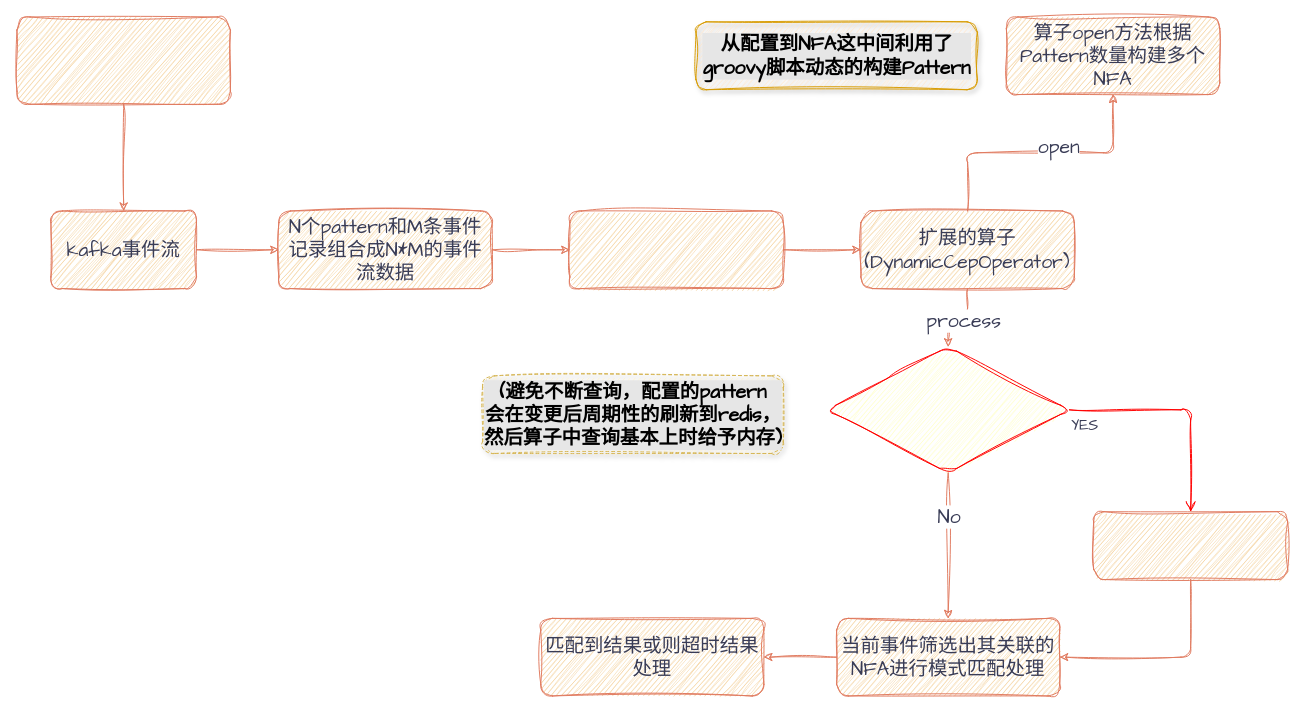
Some shapes in this 1305 by 713 pixel diagram are drawn without their labels. Here are the shapes that lost their labels. From the top down, the centre of each, then its label:
the point at 123,60: 后台配置的pattern数据(mysql中)周期性的广播到主事件流
the point at 676,249: keyBy(按照用户或者设备分组)
the point at 947,409: 检查当前算子中pattern和配置中的pattern是否一致
the point at 1190,545: 刷新Pattern对应的NFA，同时清理NFA关联的状态数据
